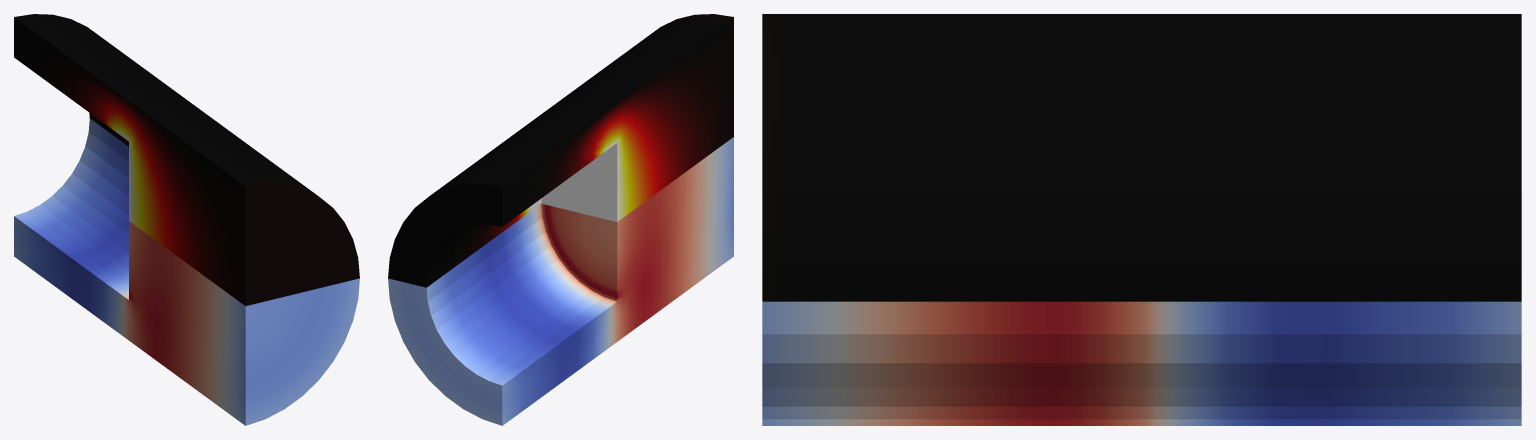
The model's file is Better_GTLF.gltf.
3 renders of one model, left to right at view 1: azimuth 30°, elevation 25°; view 2: azimuth 150°, elevation 25°; view 3: azimuth 270°, elevation 25°, orthographic. The views are drawn at different scales.
Parts seen in each view (by area): view 1: Renderer Node; view 2: Renderer Node; view 3: Renderer Node.
Part boxes in pixels (x1,y1,x2,y2): Renderer Node: (14, 14, 359, 425); Renderer Node: (388, 14, 733, 425); Renderer Node: (762, 14, 1521, 425).
Bounding box in the file's own units: 5.75 × 11.5 × 20.16.
Materials: 2 (2 with a texture image).
